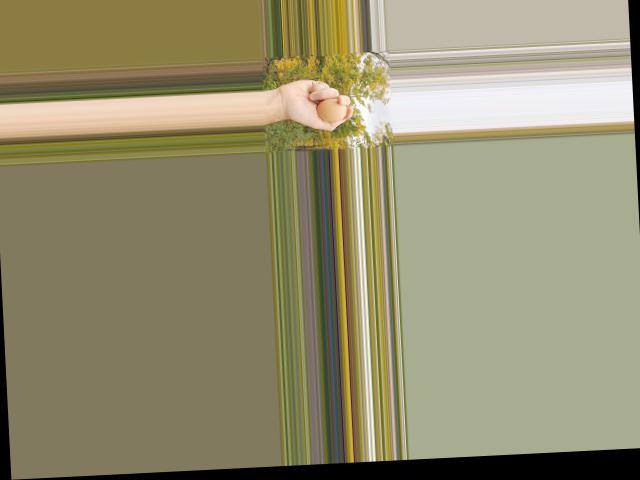egg: (317, 96, 347, 122)
